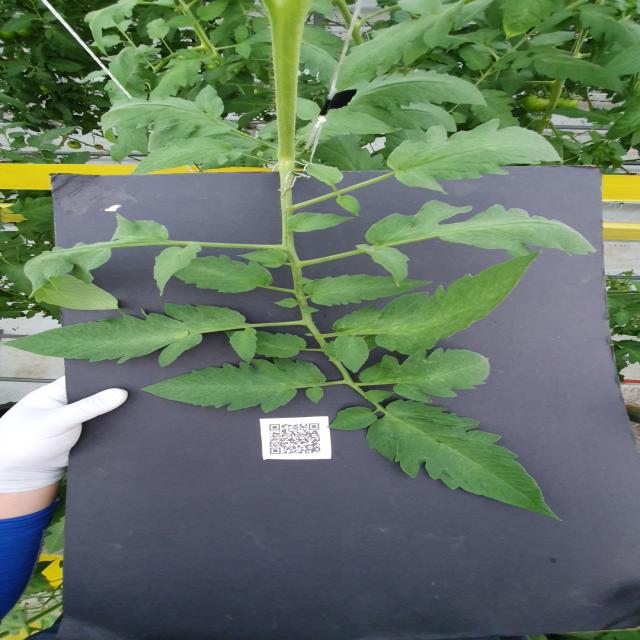Healthy Leaf: (366, 400, 564, 523), (3, 304, 258, 368), (24, 214, 170, 311), (385, 120, 565, 195), (366, 200, 598, 258), (335, 1, 463, 91), (141, 358, 328, 414), (102, 86, 240, 152), (349, 71, 489, 113), (320, 103, 459, 141), (305, 274, 434, 307), (131, 138, 243, 176), (533, 55, 627, 98), (175, 256, 274, 295), (150, 50, 220, 99), (154, 245, 203, 298), (356, 245, 411, 288), (225, 331, 308, 359), (289, 213, 356, 233), (335, 336, 371, 373), (329, 407, 378, 431), (238, 249, 290, 269), (307, 163, 345, 187), (338, 196, 362, 218), (366, 391, 396, 404)
